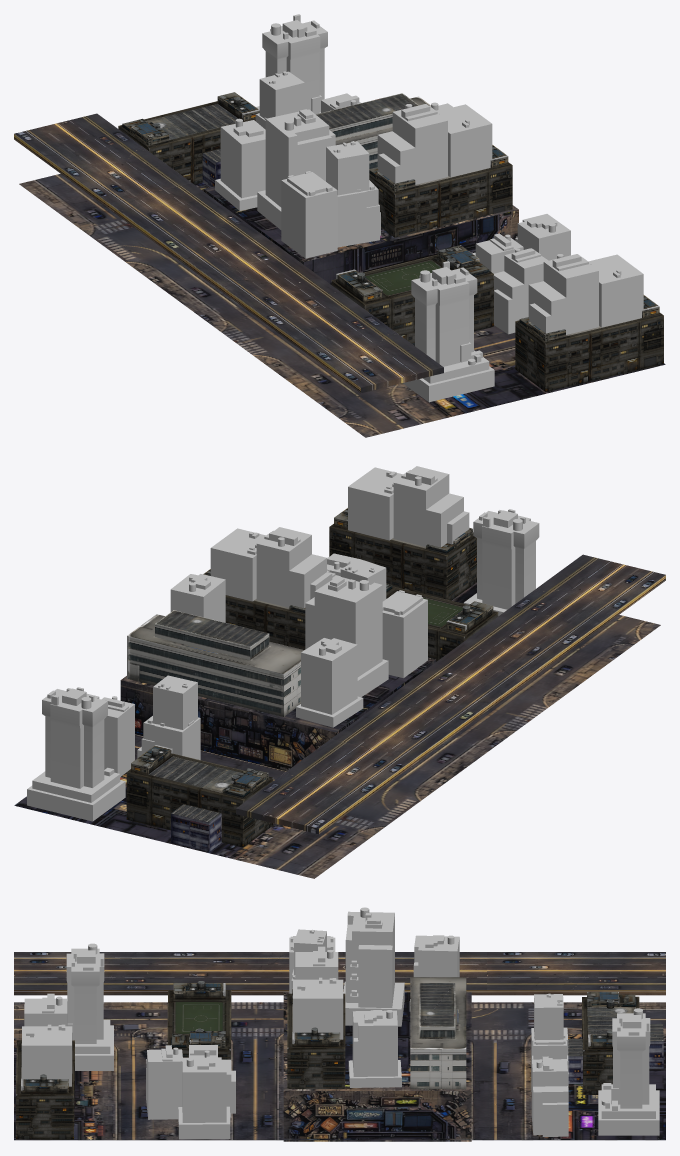
Rendered from CP_Slums_Pack_100x200_02.fbx.
The picture shows the model from 3 angles, top to bottom: view 1: azimuth 30°, elevation 25°; view 2: azimuth 150°, elevation 25°; view 3: azimuth 270°, elevation 25°; orthographic projection. The views are drawn at different scales.
Visible parts, largest first — view 1: CP_Slums_Pack_100x200_02; view 2: CP_Slums_Pack_100x200_02; view 3: CP_Slums_Pack_100x200_02.
Part boxes in pixels (x1,y1,x2,y2): CP_Slums_Pack_100x200_02: [14, 14, 665, 437]; CP_Slums_Pack_100x200_02: [14, 466, 665, 878]; CP_Slums_Pack_100x200_02: [14, 907, 665, 1141].
Bounding box in the file's own units: 10158 × 5119 × 20000.
